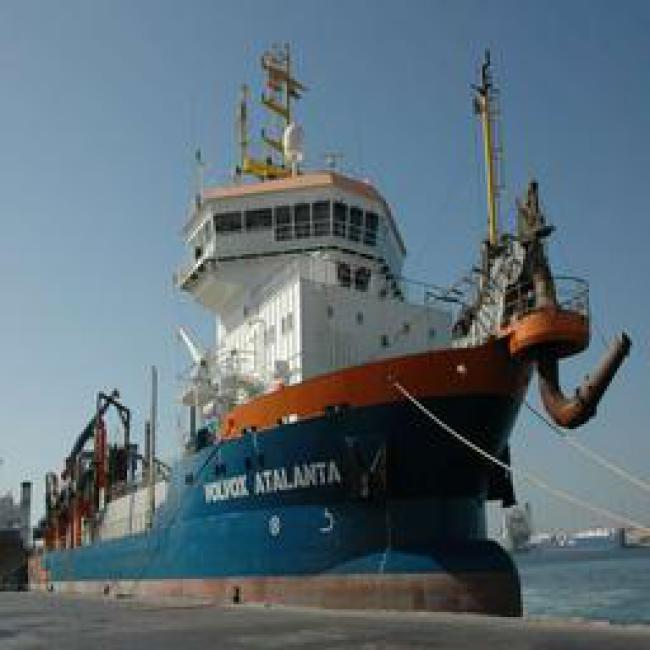Ship: (72, 163, 634, 609)
